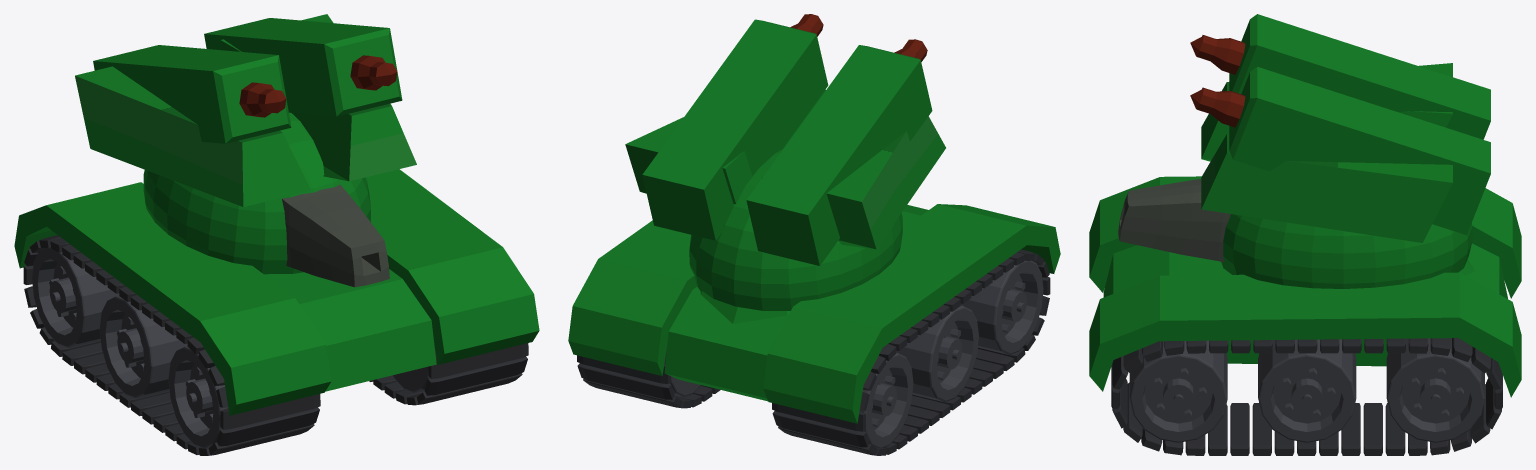
The model's file is minitank-processed-v3.fbx.
3 views of the same model, side by side, from view 1: azimuth 30°, elevation 25°; view 2: azimuth 150°, elevation 25°; view 3: azimuth 270°, elevation 25° (orthographic). The views are drawn at different scales.
Parts seen in each view (by area): view 1: tank-body, ballistic, missile-launcher, cannon; view 2: tank-body, ballistic, cannon, missile-launcher; view 3: tank-body, ballistic, cannon, missile-launcher.
Part boxes in pixels (bbox=[...]): tank-body: bbox=[14, 169, 539, 455]; ballistic: bbox=[93, 18, 402, 143]; missile-launcher: bbox=[75, 14, 416, 206]; cannon: bbox=[143, 112, 389, 287]; tank-body: bbox=[568, 204, 1060, 455]; ballistic: bbox=[642, 14, 932, 323]; cannon: bbox=[689, 146, 902, 310]; missile-launcher: bbox=[625, 89, 945, 249]; tank-body: bbox=[1089, 176, 1521, 455]; ballistic: bbox=[1190, 14, 1490, 275]; cannon: bbox=[1118, 179, 1472, 288]; missile-launcher: bbox=[1201, 63, 1452, 242].
Size of the model in its own units: 888 by 929 by 1110.
